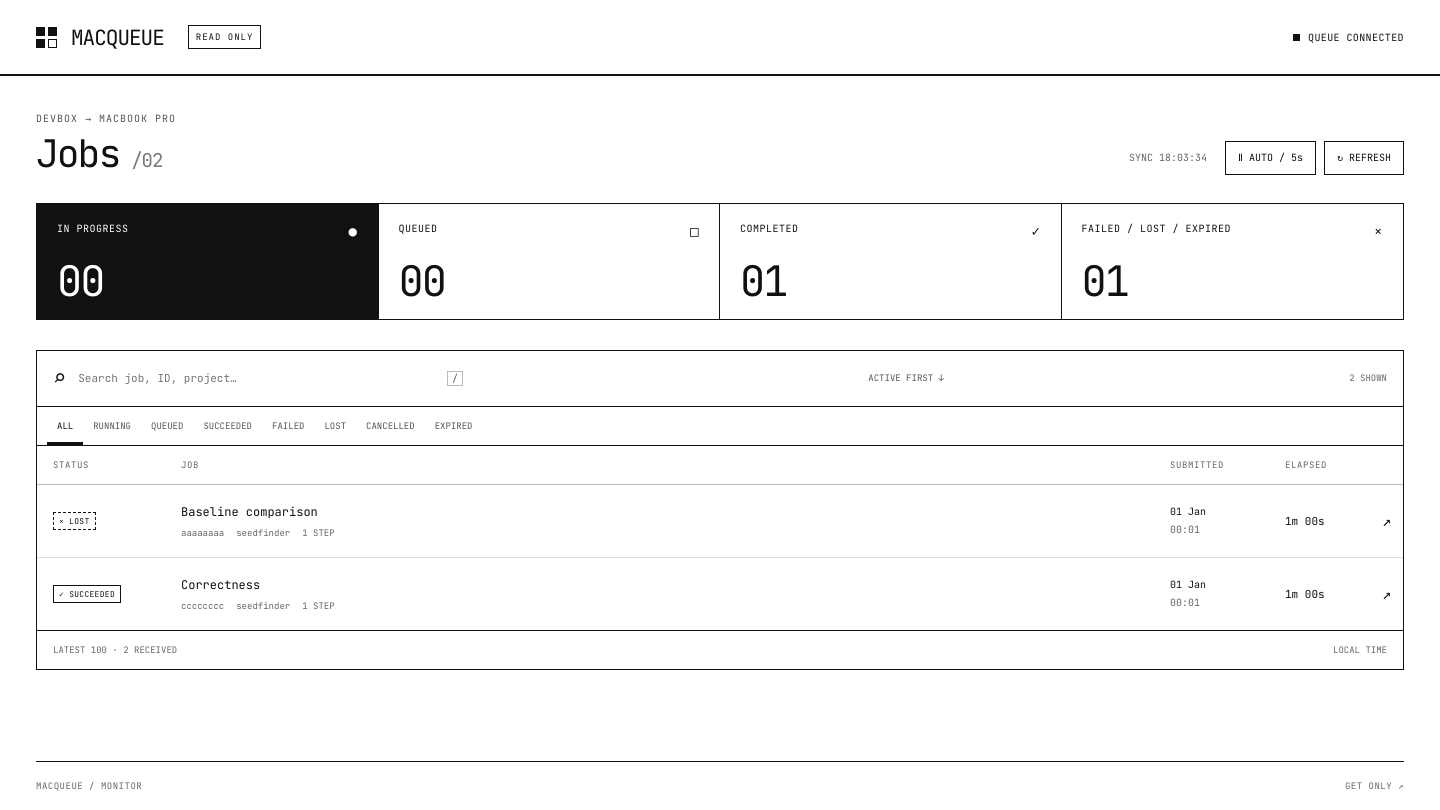
Test: dashboard › filters jobs and opens failure, logs and spec without write requests
The image size is (1440, 810).
Expected: the button with aria-label "Open Baseline comparison" is shown, [181, 503, 1138, 521]
Click the button "LOST" at (335, 426), box [314, 407, 356, 445]
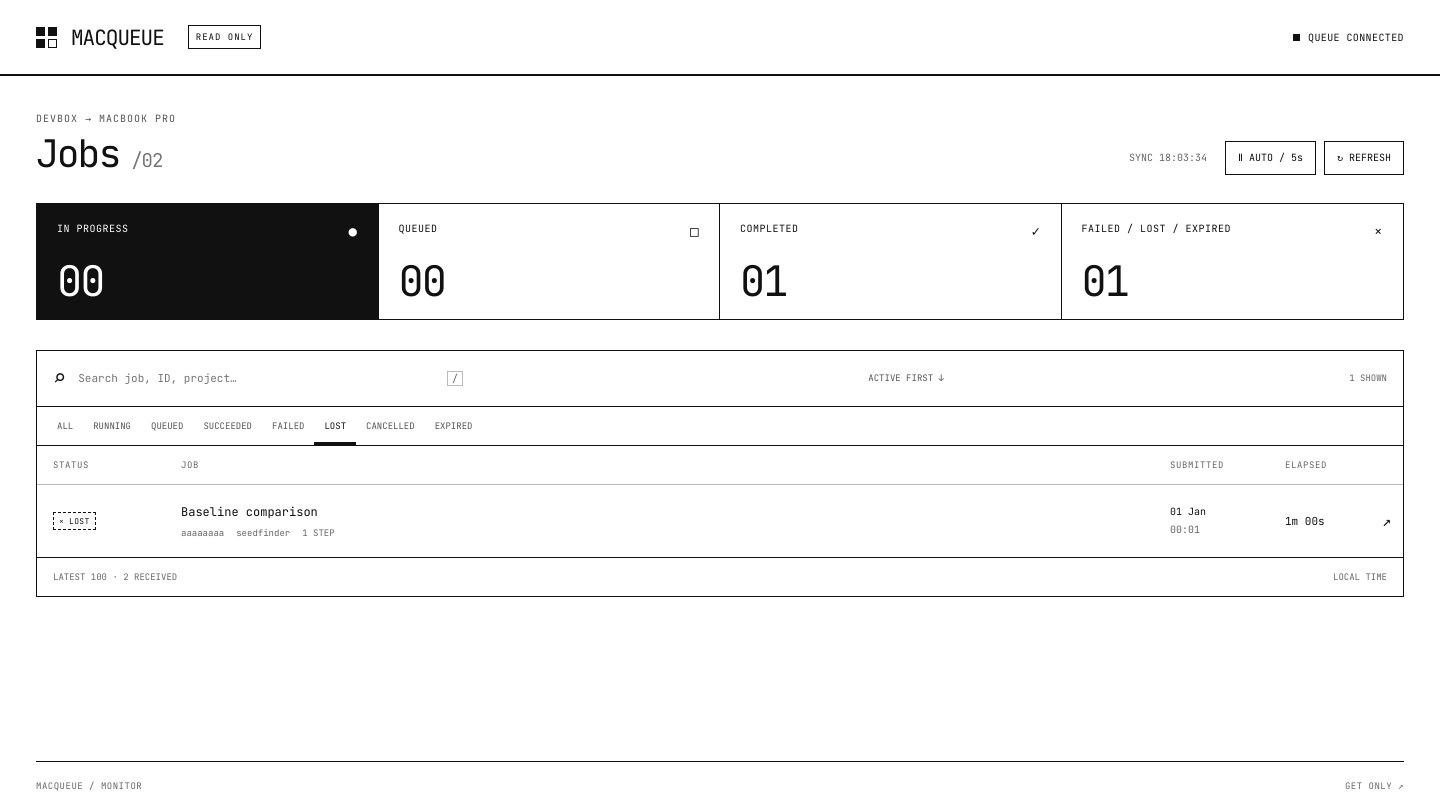
Click the button with aria-label "Open Baseline comparison" at (249, 512), box [181, 503, 1138, 521]
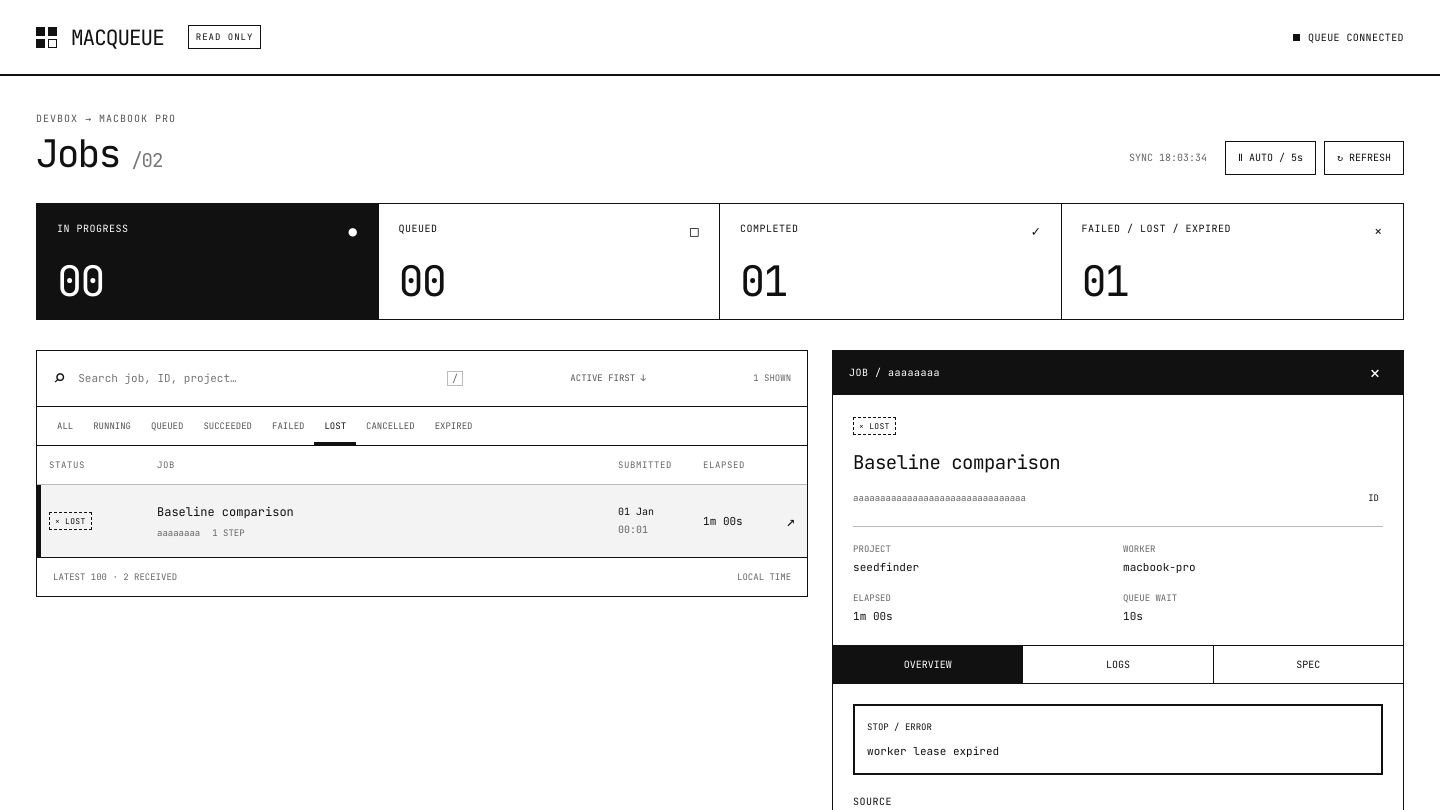
Expected: the text "worker lease expired" is shown, [867, 744, 999, 758]
Click the tab "LOGS" at (1119, 665), box [1023, 646, 1214, 683]
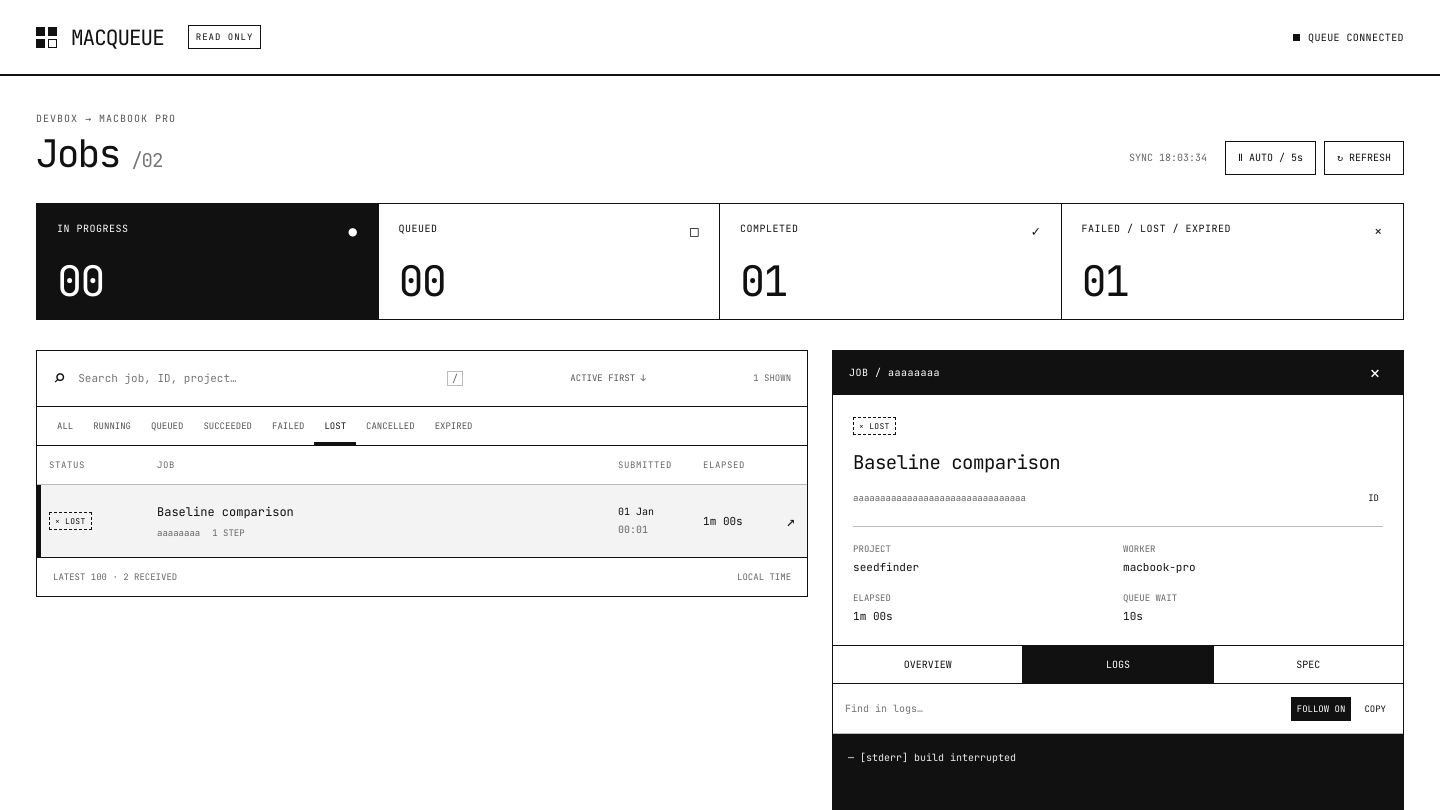
Click the tab "SPEC" at (1308, 665), box [1214, 646, 1403, 683]
(page scrolled)
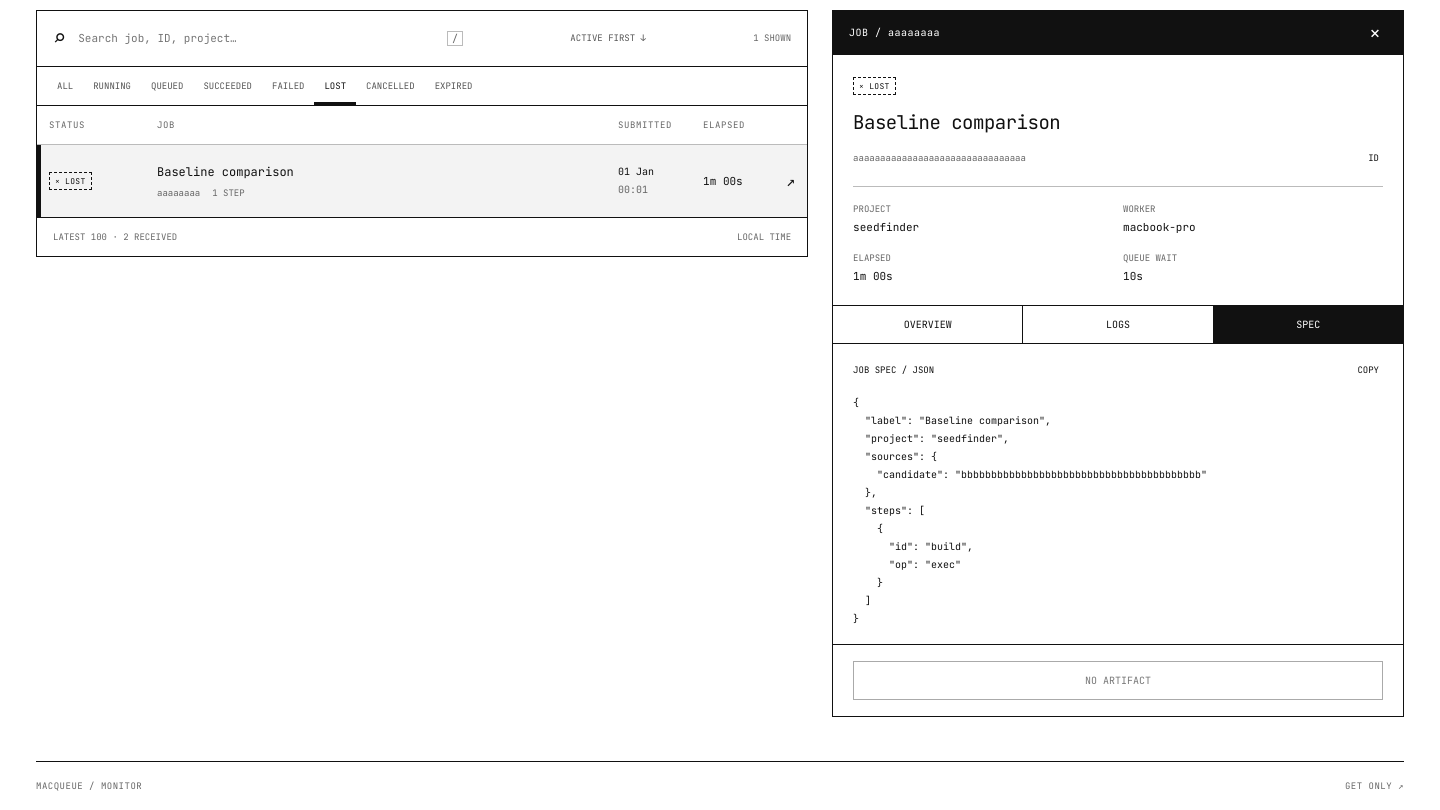
Expected: the text "\"candidate\":" is shown, [853, 396, 1207, 625]
